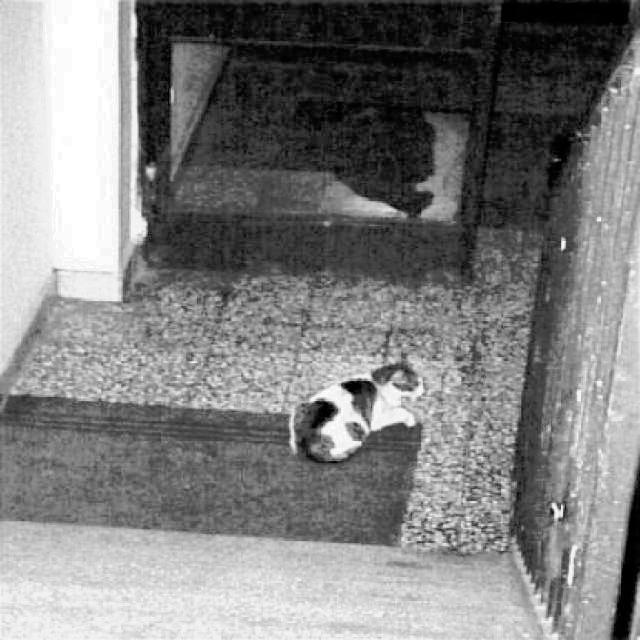Cat: (278, 358, 437, 471)
